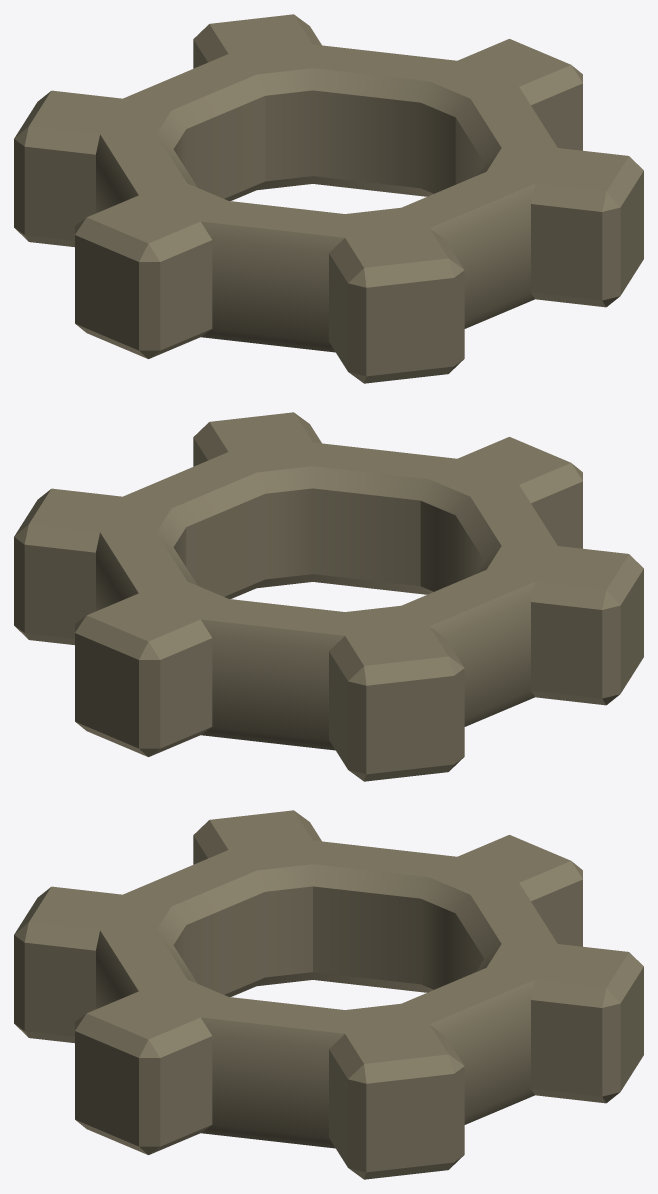
The model's file is Coin.fbx.
3 renders of one model, top to bottom at view 1: azimuth 30°, elevation 25°; view 2: azimuth 150°, elevation 25°; view 3: azimuth 270°, elevation 25°, orthographic.
Parts seen in each view (by area): view 1: Cylinder; view 2: Cylinder; view 3: Cylinder.
Part boxes in pixels (x1,y1,x2,y2): Cylinder: (14,14,643,383); Cylinder: (14,412,643,781); Cylinder: (14,810,643,1179).
Size of the model in its own units: 270 by 54.78 by 270.
